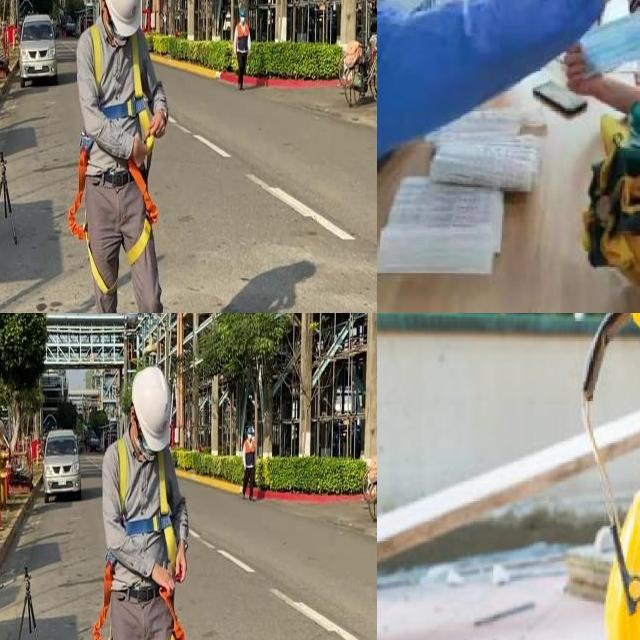Ear-protection: (574, 313, 640, 640)
Harness: (68, 139, 118, 295), (116, 441, 177, 568), (102, 34, 151, 136), (127, 159, 159, 266), (93, 559, 115, 640), (157, 590, 187, 640)
hand_noglove: (565, 41, 601, 101)
